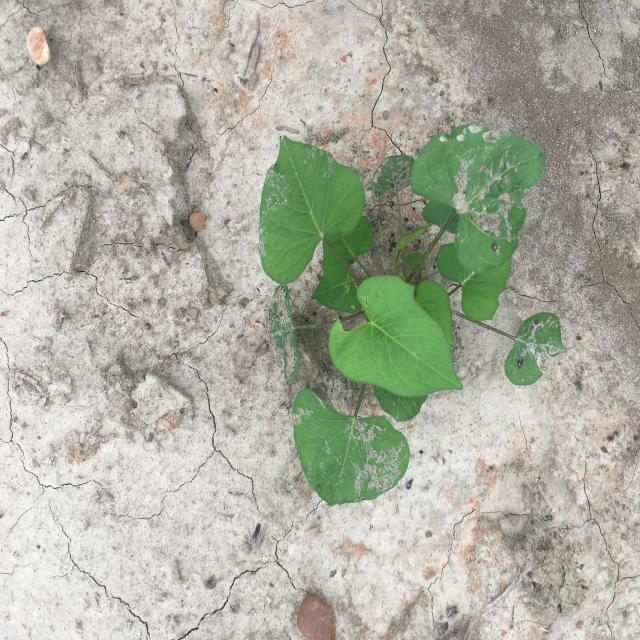MorningGlory: (258, 121, 570, 507)
